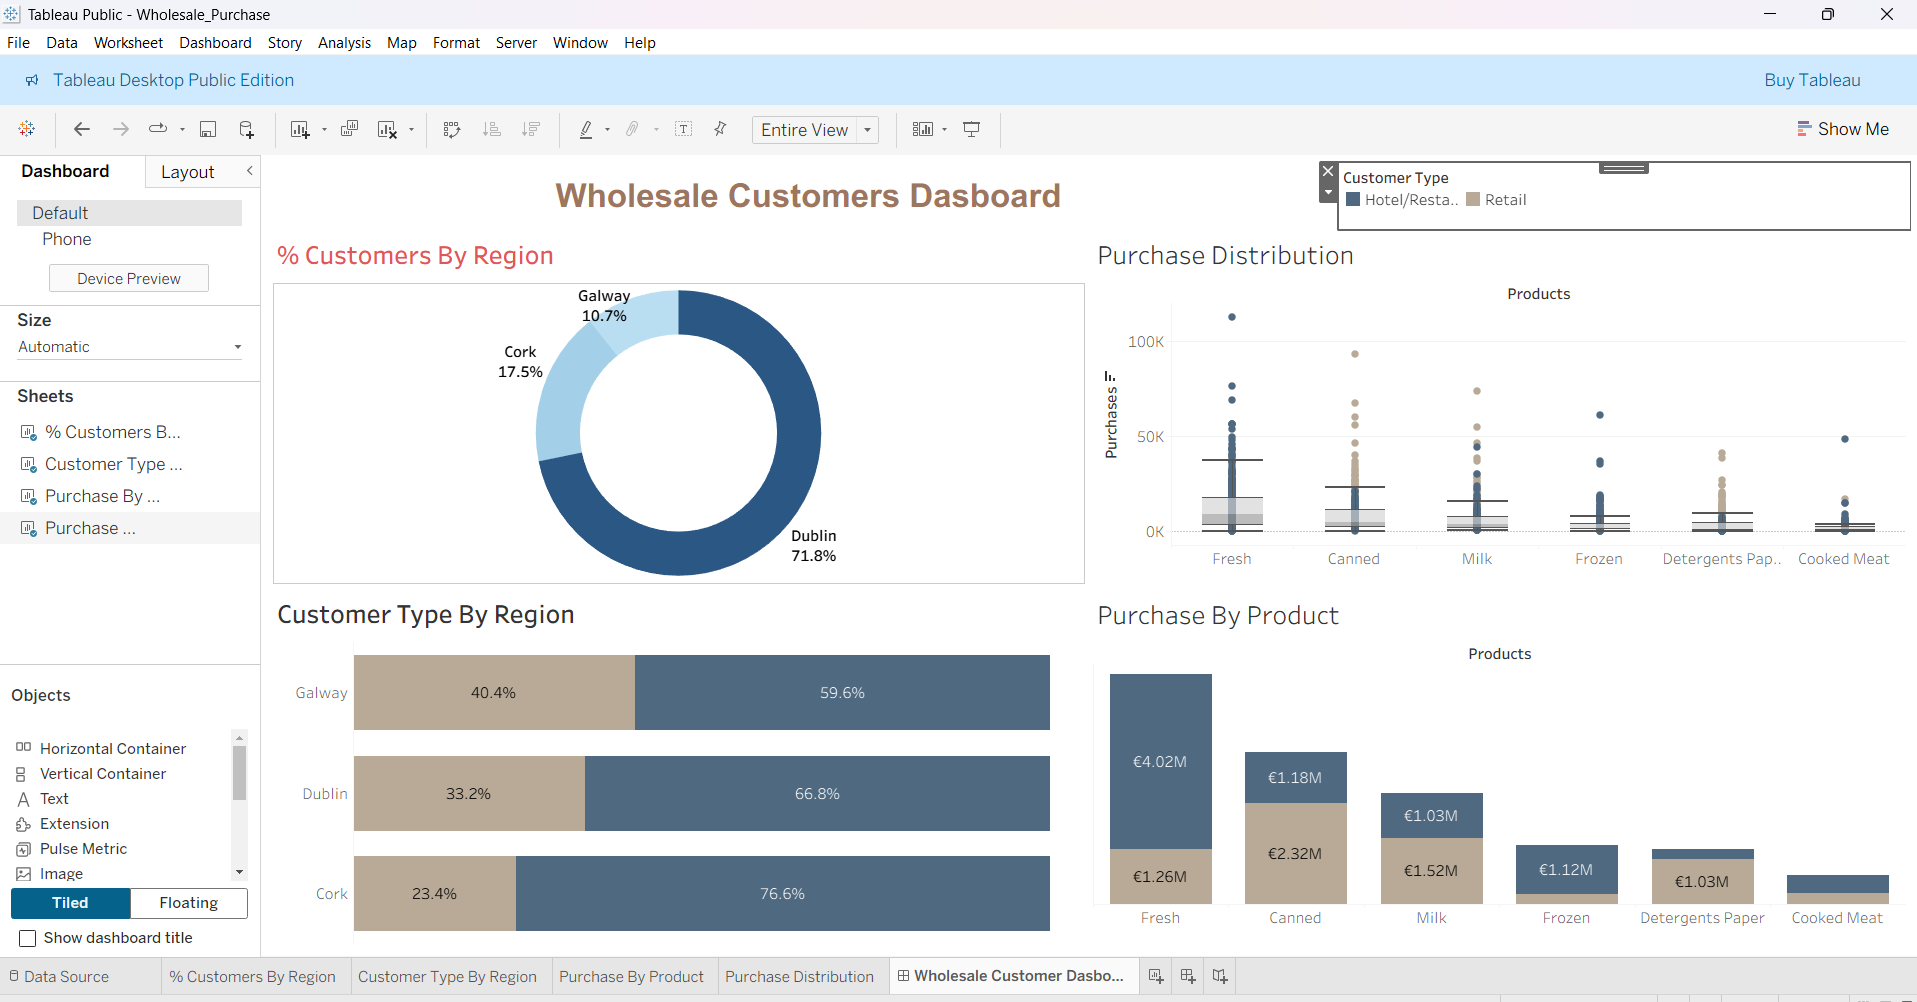

This screenshot's page, from the dashboard's own definition file:
{"tool":"tableau","page":{"name":"Wholesale Customer Dasboard","canvas":[1000,1000],"units":"permille","ordinal":0},"visuals":[{"type":"text","box":[4.8,10,645.7,82.4]},{"type":"legend","title":"Purchase Distribution","param":"[federated.11r23z10svm8wy1791m4e1gxwx52].[none:Customer_Type:nk]","box":[650.6,10,344.6,82.4]},{"type":"worksheet","title":"% Customers By Region","mark":"Pie","rows":["Calculation_0543760071229442","Calculation_0543760071229442"],"box":[4.8,92.4,495.1,448.8]},{"type":"worksheet","title":"Purchase Distribution","mark":"Circle","rows":["Pivot Field Values"],"cols":["Pivot Field Names"],"box":[500,92.4,495.2,448.8]},{"type":"worksheet","title":"Customer Type By Region","mark":"Automatic","rows":["Region"],"box":[4.8,541.2,495.1,448.8]},{"type":"worksheet","title":"Purchase By Product","mark":"Automatic","rows":["Pivot Field Values"],"cols":["Pivot Field Names"],"box":[500,541.2,495.2,448.8]}]}

Visuals, with their boxes on the dashboard's canvas, which has no fixed pixel size, in thousandths of its width and height (x1, y1, x2, y2). These are canvas units, not pixel positions in the 1917x1002 screenshot, which may show the page scaled, cropped or inside an application window:
text: <box>5,10,650,92</box>
"Purchase Distribution" legend: <box>651,10,995,92</box>
"% Customers By Region" worksheet (Pie marks): <box>5,92,500,541</box>
"Purchase Distribution" worksheet (Circle marks): <box>500,92,995,541</box>
"Customer Type By Region" worksheet: <box>5,541,500,990</box>
"Purchase By Product" worksheet: <box>500,541,995,990</box>
